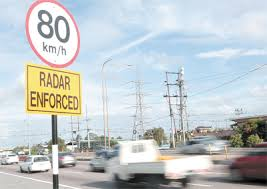Speed_limit_80km: (25, 1, 82, 67)
